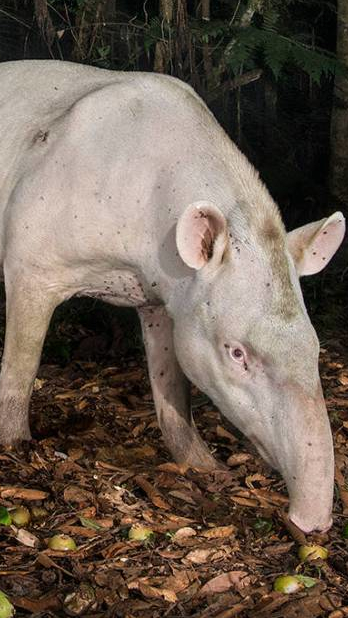Anta: (4, 41, 345, 534)
